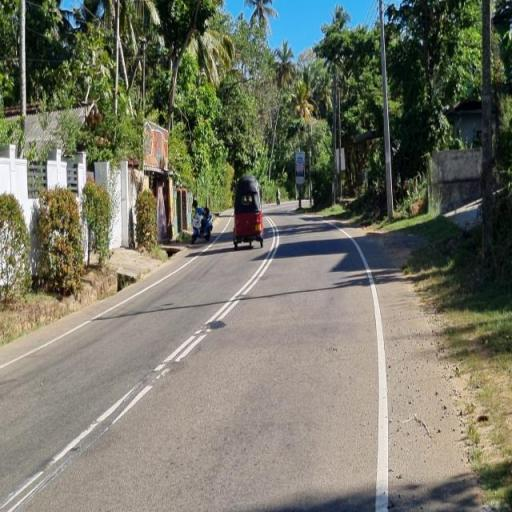double_white_line: (150, 217, 278, 380)
